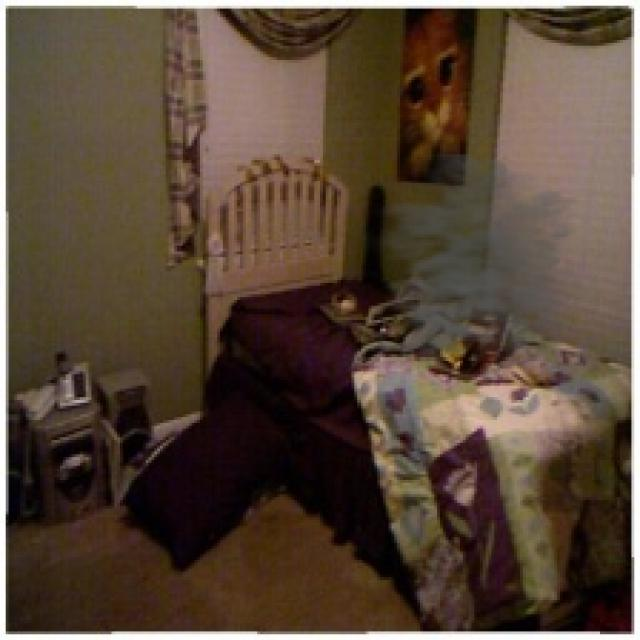smoke: (363, 154, 603, 374)
